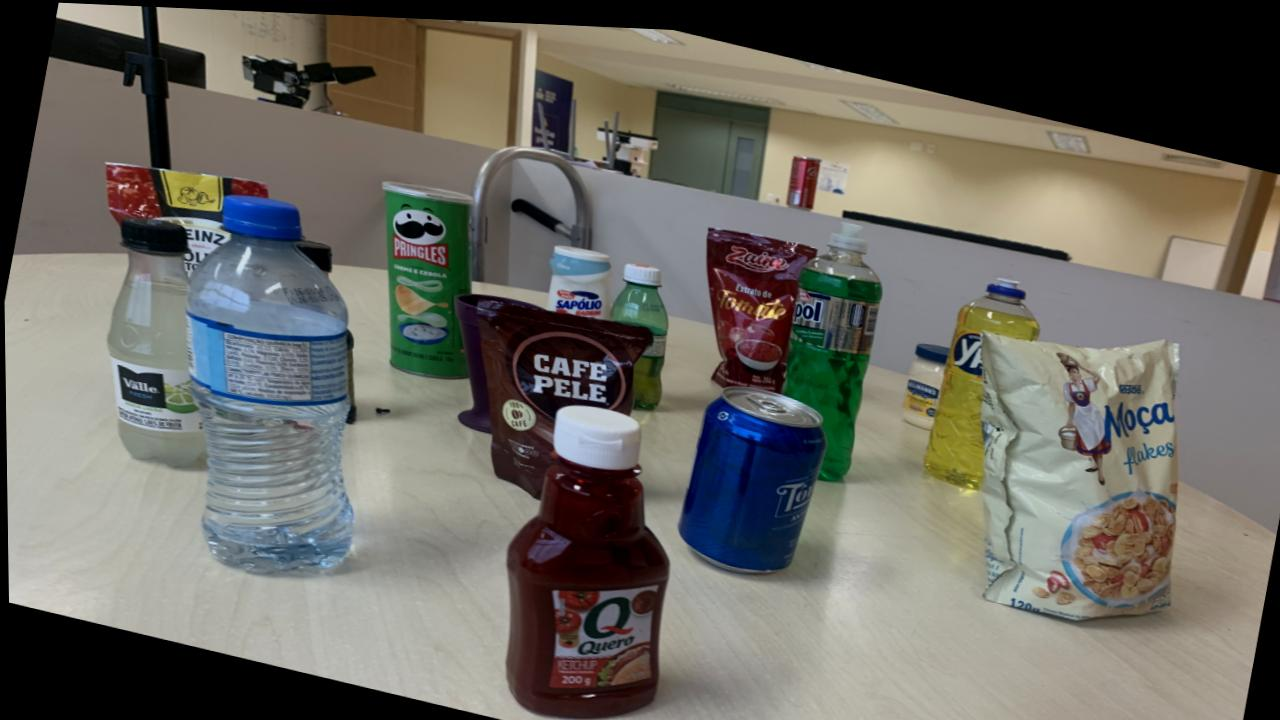Cleaner-Cleanup_Items: (546, 240, 612, 314)
Coffee-Pantry_Items: (457, 291, 651, 492)
Detergent-Cleanup_Items: (782, 214, 881, 473), (923, 268, 1038, 480)
English_Sauce-Pantry_Items: (295, 236, 332, 271), (343, 327, 356, 421)
Flakes-Snacks: (978, 323, 1178, 610)
Guarana-Drinks: (609, 257, 667, 404)
Ketchup-Pantry_Items: (503, 399, 668, 713)
Mayonnaise-Pantry_Items: (901, 334, 949, 421)
Pringles-Snacks: (381, 178, 471, 375)
Soda-Drinks: (105, 216, 204, 465)
Tomato_Sauce-Pantry_Items: (704, 220, 816, 384), (104, 161, 267, 268)
Tonic-Drinks: (677, 379, 825, 566)
Water_Bottle-Drinks: (185, 194, 351, 571)
